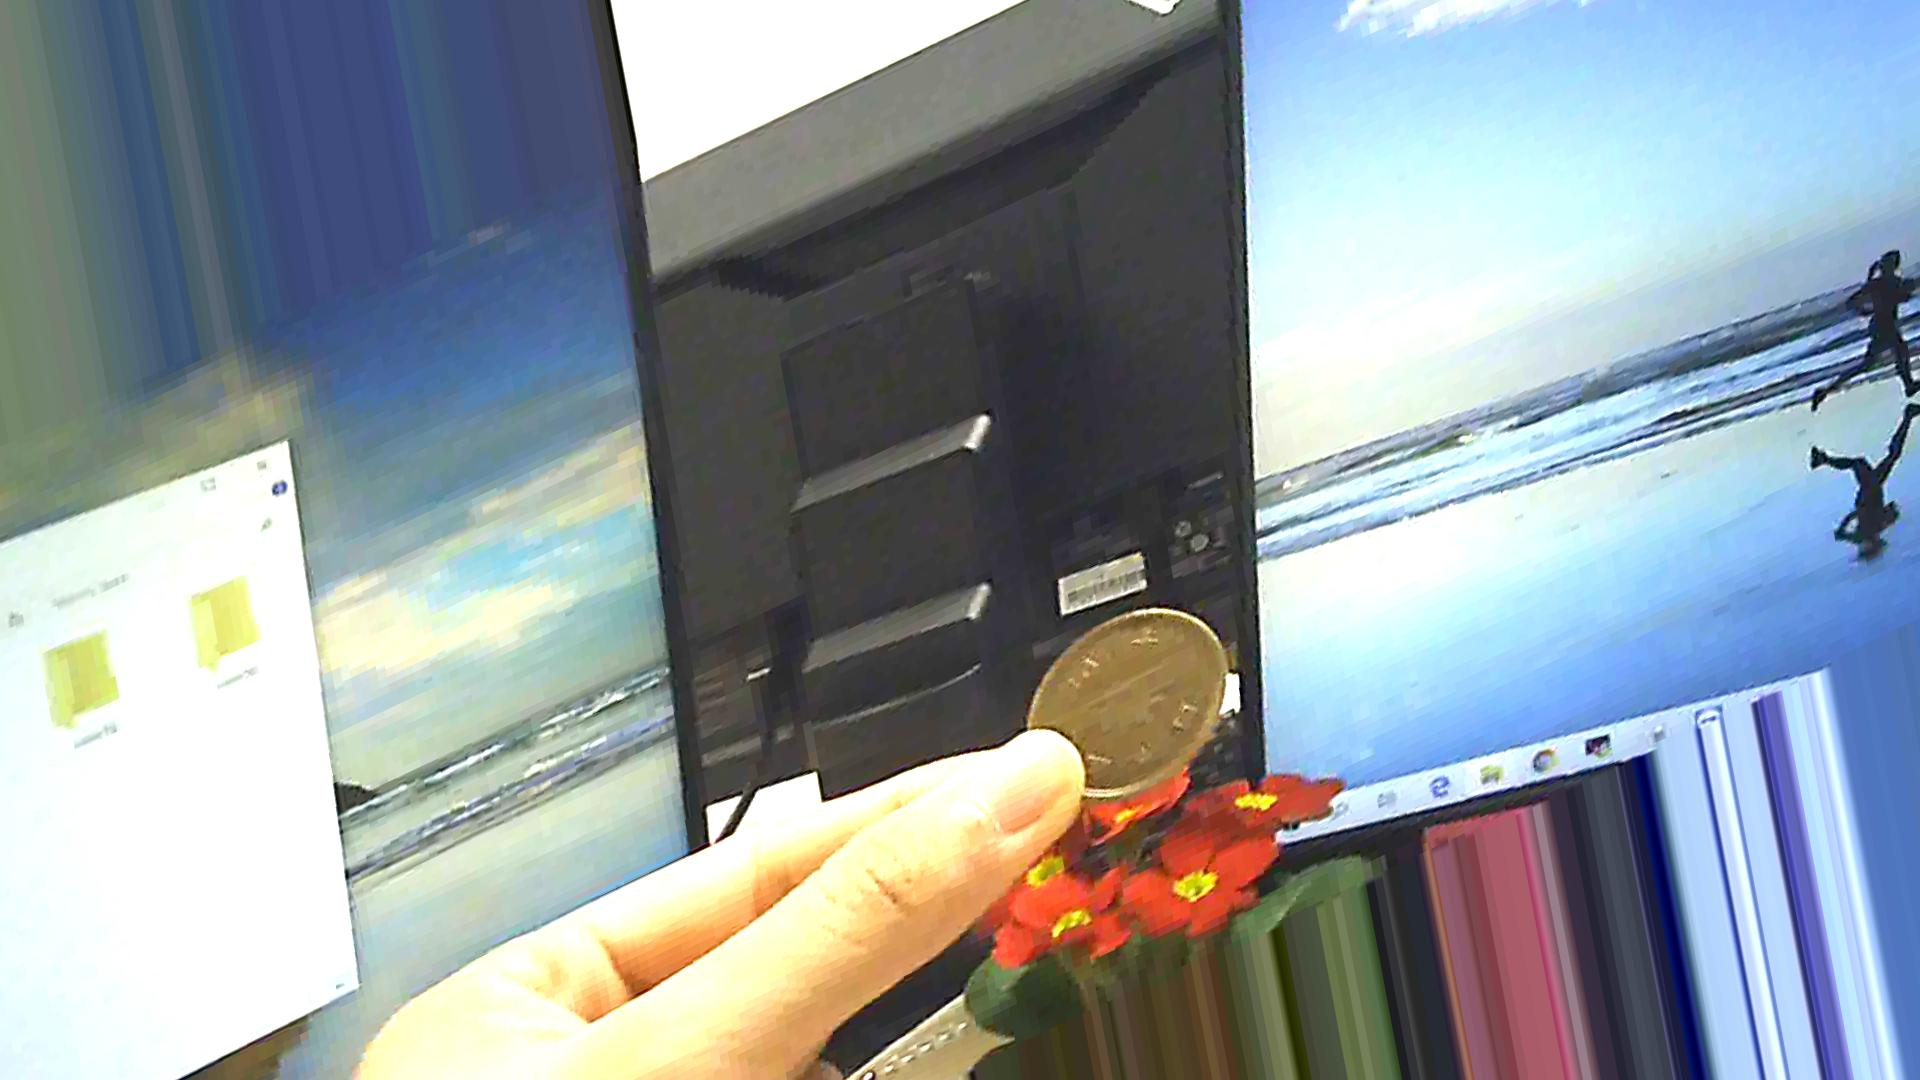10 Yen: (1017, 601, 1238, 807)
